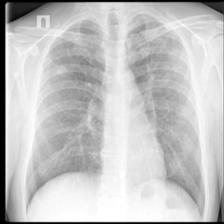tuberculosis: (20, 11, 208, 221)
